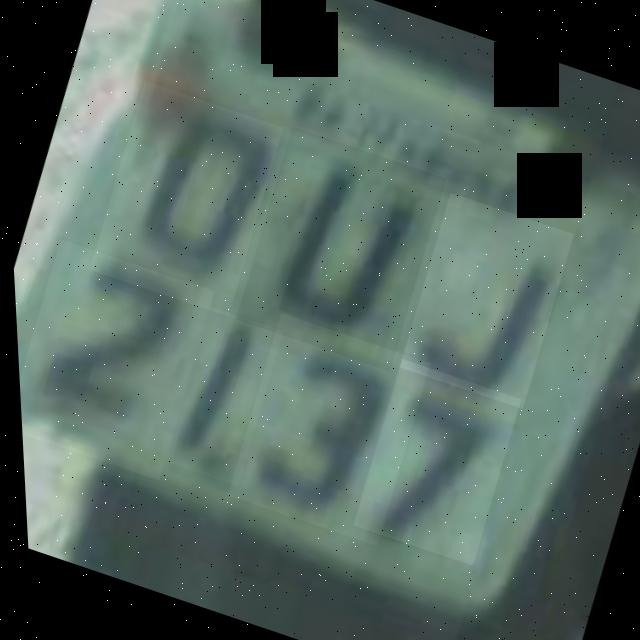1: (153, 306, 285, 486)
2: (10, 239, 218, 480)
3: (215, 312, 433, 546)
7: (340, 358, 524, 566)
J: (388, 192, 578, 408)
O: (78, 81, 289, 317)
U: (224, 126, 452, 371)
